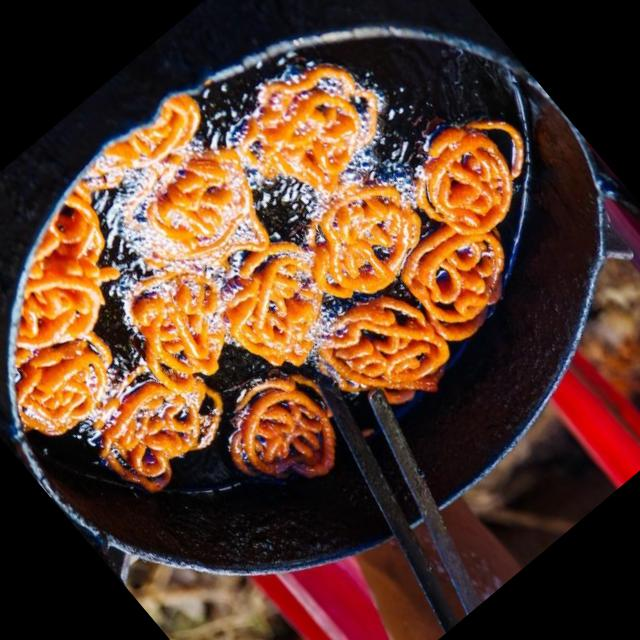jalebi: (0, 0, 610, 615)
